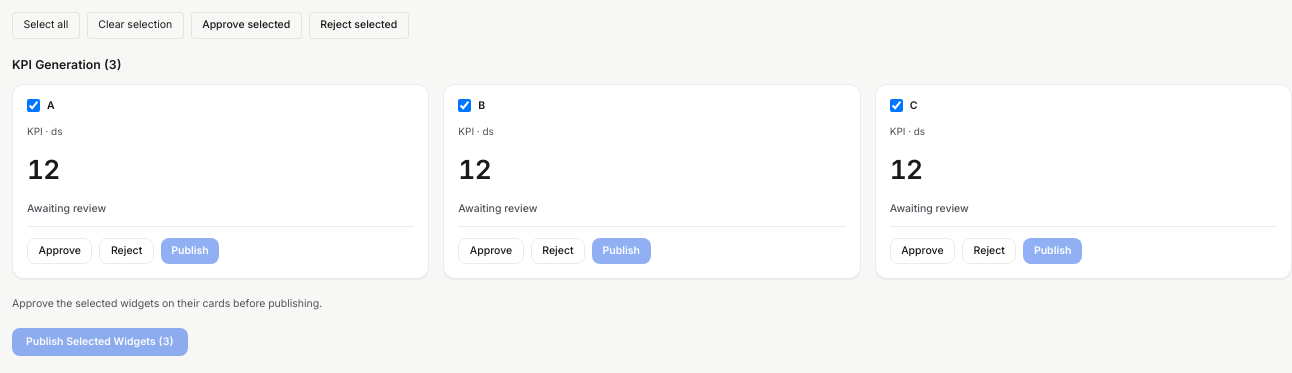
rejects all selected proposals together and removes them from the publish selection
The width and height of the screenshot is (1292, 373).
Click the button "Reject selected" at (359, 25), box [309,12,409,38]
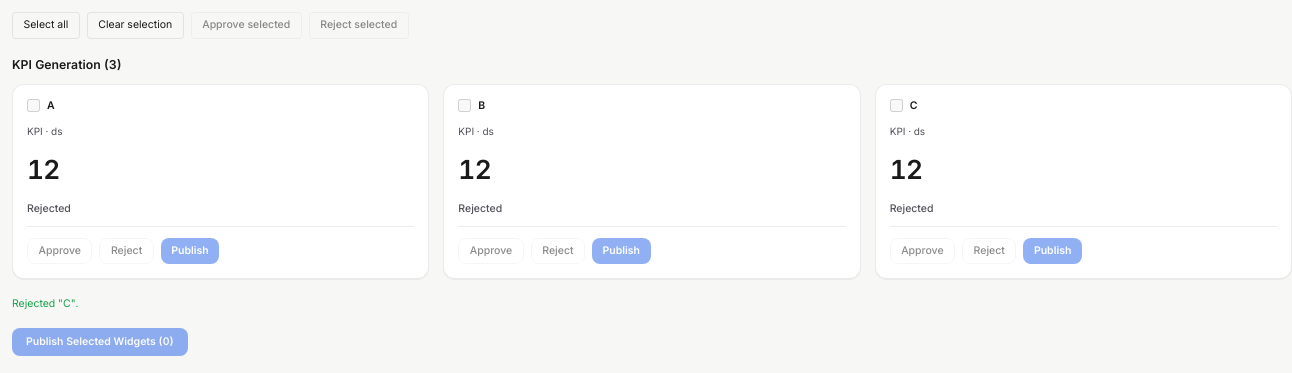
Check: the button "Publish Selected Widgets (0)" is disabled, box [12,328,188,356]
Check: the text "Rejected" is shown 3 times, box [27,202,71,214]; [458,202,502,214]; [890,202,934,214]
